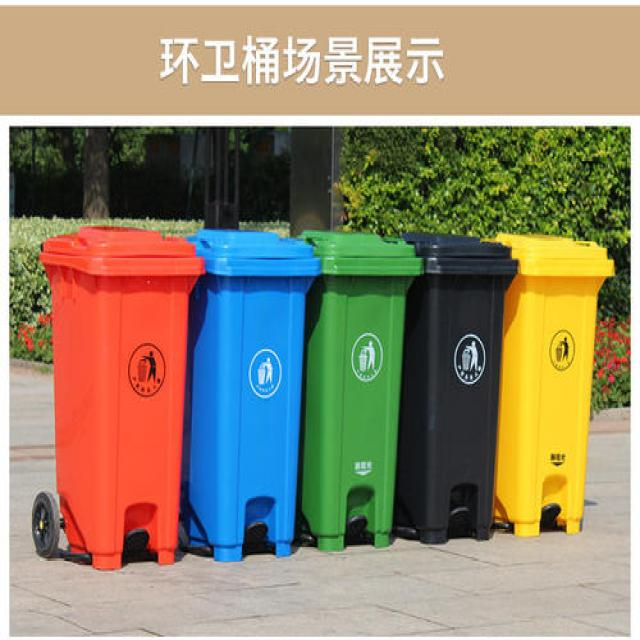garbage_bin: (38, 225, 205, 570), (178, 229, 319, 560), (478, 232, 613, 537), (293, 228, 421, 548), (392, 234, 517, 544)
